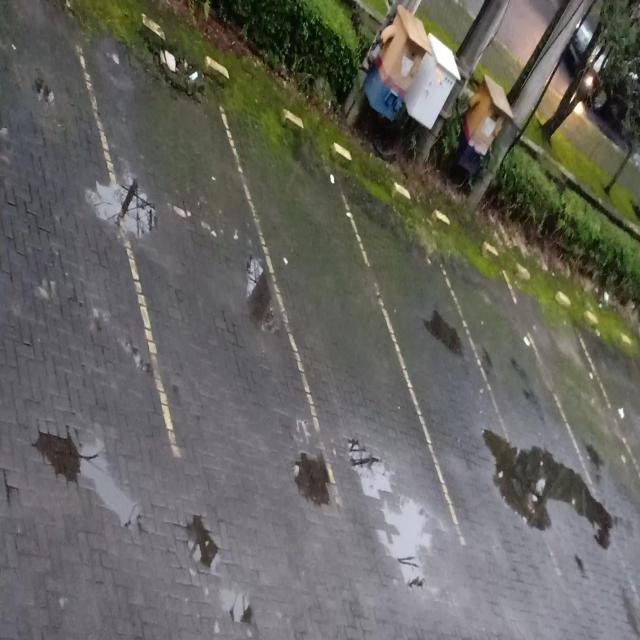empty: (116, 36, 265, 453), (267, 108, 390, 515), (390, 196, 474, 524), (472, 242, 553, 525)
